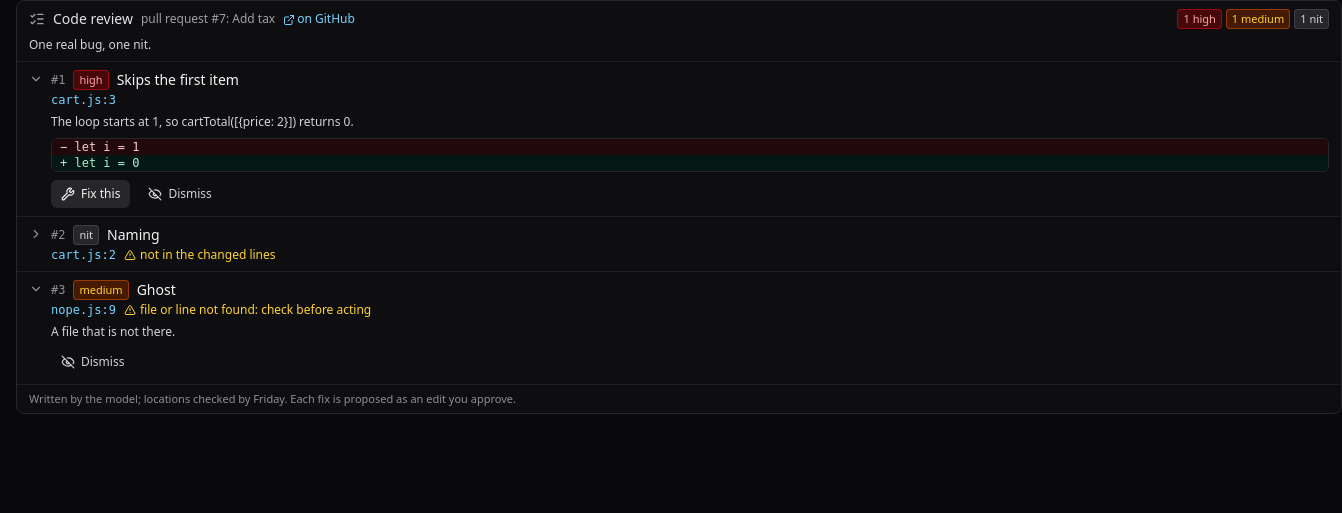
Scenario: review card › lists findings with severity, location, reason and the suggested change
Expected: the text "1 high" is shown, [1178, 9, 1222, 29]
Expected: the text "1 nit" is shown, [1294, 9, 1329, 29]
What coordinates should you click on to do the following:
click the button named "Show finding 2"
I would click on:
 (36, 234)
Its box is [29, 227, 43, 241].
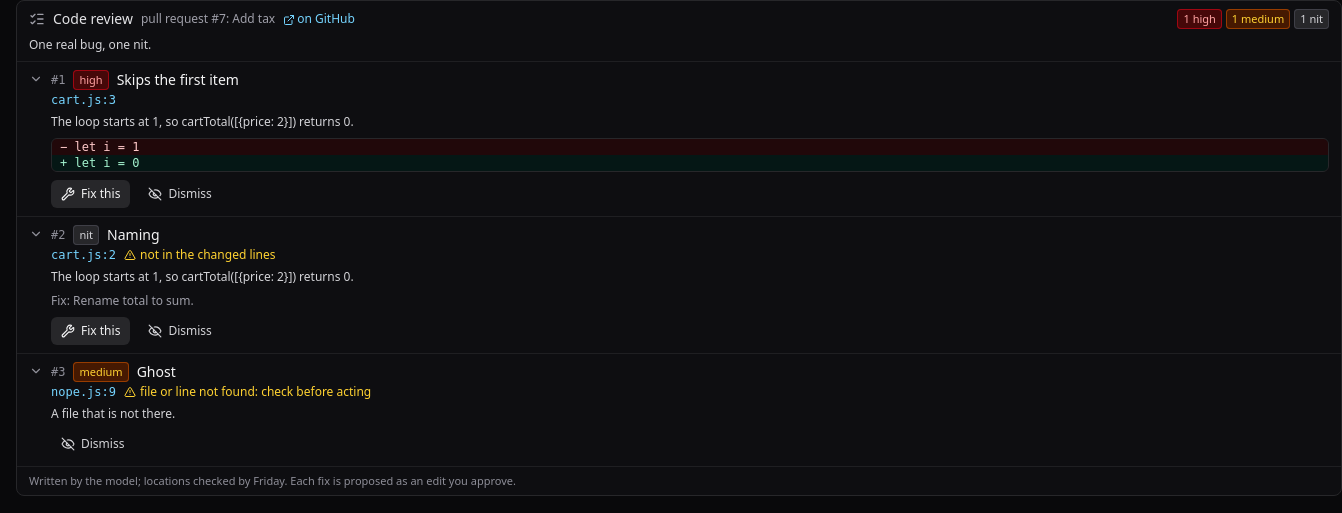
Now the text "Fix: Rename total to sum." is shown, box [51, 292, 194, 309]
